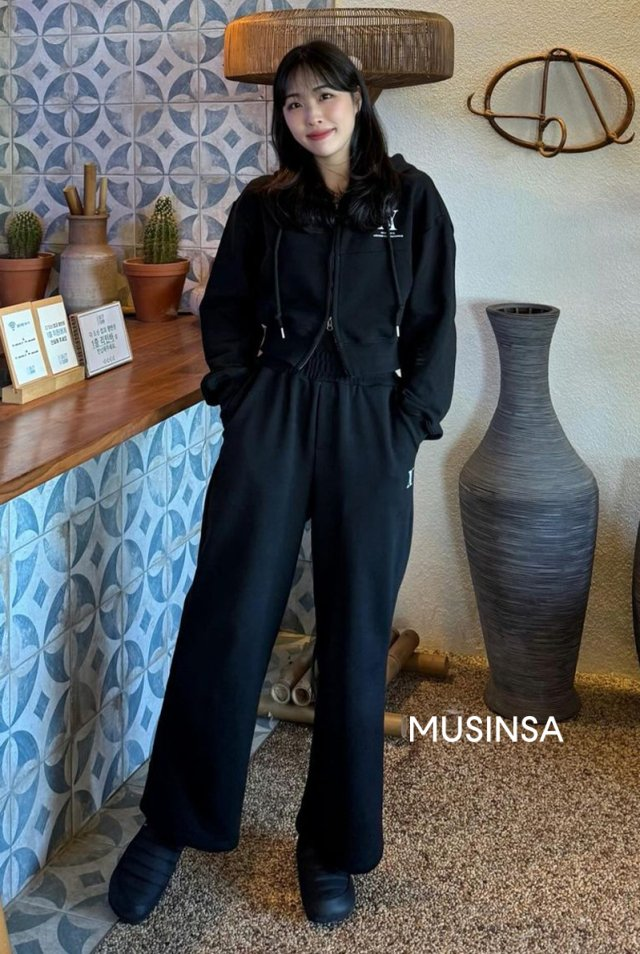Outer: (195, 146, 461, 447)
Shoes: (100, 816, 366, 938)
Training pants: (156, 366, 429, 882)
